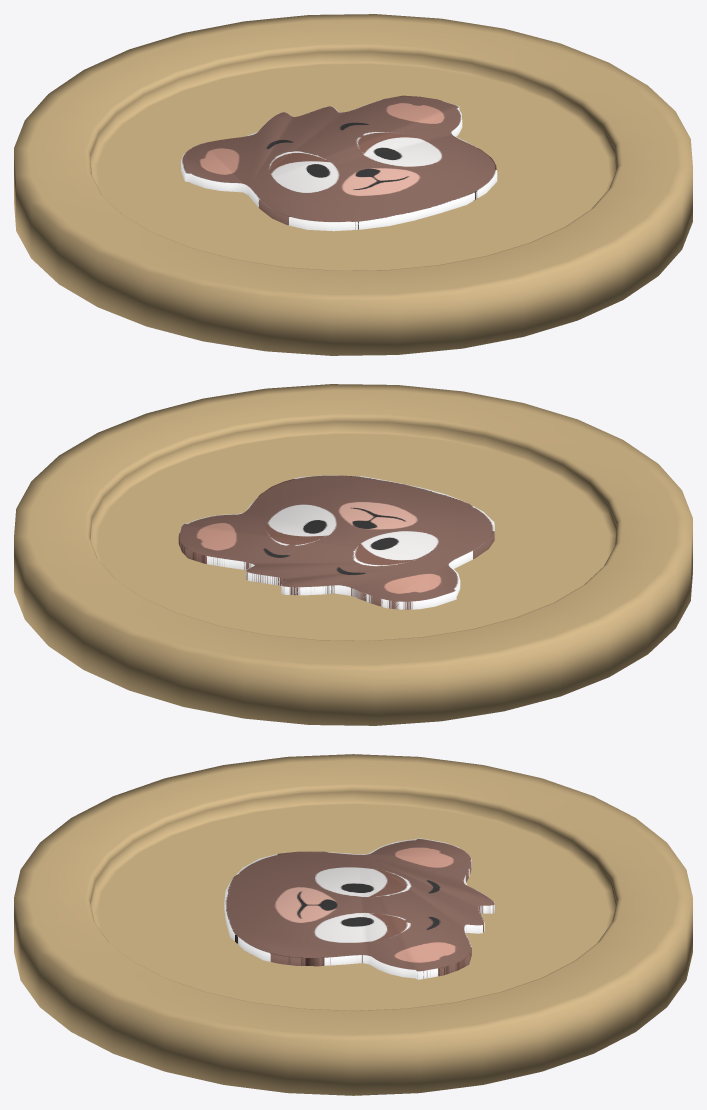
Rendered from coin.glb.
3 views of the same model, one above another, from view 1: azimuth 30°, elevation 25°; view 2: azimuth 150°, elevation 25°; view 3: azimuth 270°, elevation 25° (orthographic).
Visible parts, largest first — view 1: Coin, Bear.001; view 2: Coin, Bear.001; view 3: Coin, Bear.001.
Part boxes in pixels (x1=…): Coin: x1=14, y1=14, x2=692, y2=355; Bear.001: x1=181, y1=95, x2=497, y2=231; Coin: x1=14, y1=384, x2=692, y2=725; Bear.001: x1=178, y1=475, x2=494, y2=609; Coin: x1=14, y1=754, x2=692, y2=1095; Bear.001: x1=224, y1=838, x2=494, y2=979.
Size of the model in its own units: 2.91 by 0.2591 by 2.91.
4 materials, 4 textured.
